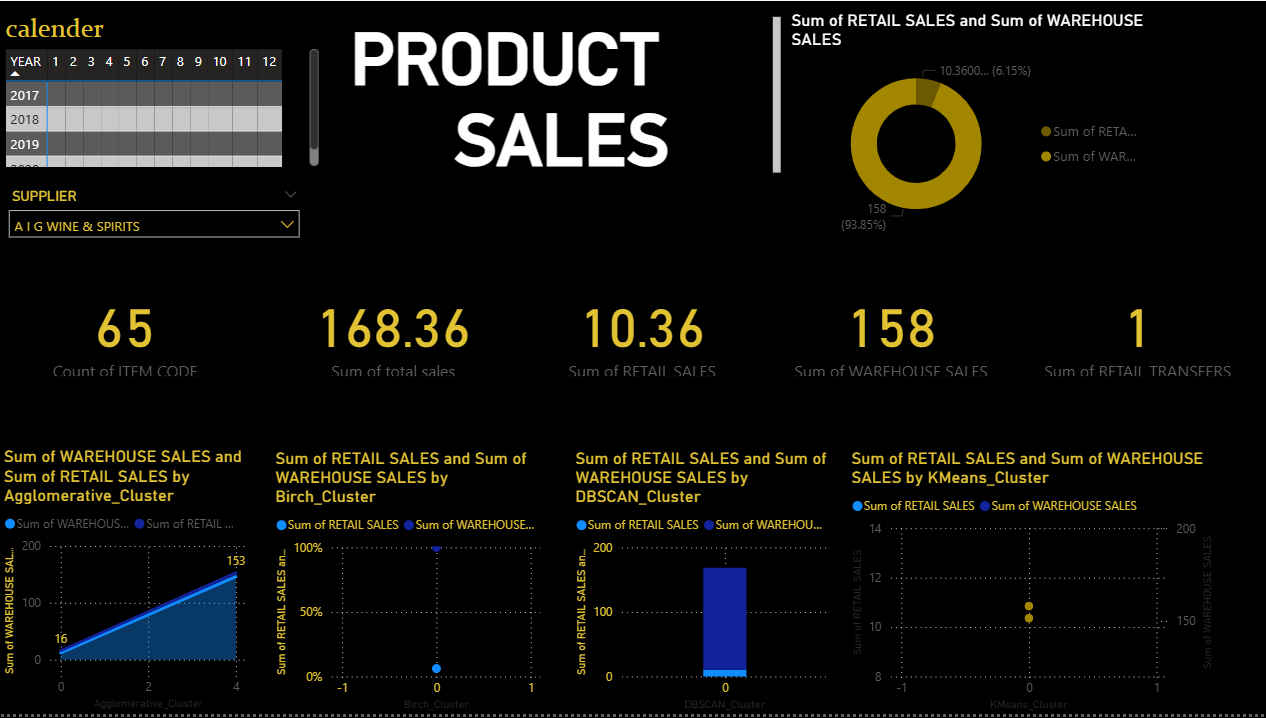

This screenshot's page, from the dashboard's own definition file:
{"tool":"powerbi","page":{"name":"Page 1","canvas":[1280,720],"ordinal":0},"visuals":[{"type":"stackedAreaChart","fields":{"Category":["clustered_products.Agglomerative_Cluster"],"Y":["Sum(clustered_products.WAREHOUSE SALES)","Sum(clustered_products.RETAIL SALES)"]},"box":[0,450,253.8,270],"z":0},{"type":"donutChart","fields":{"Y":["Sum(clustered_products.RETAIL SALES)","Sum(clustered_products.WAREHOUSE SALES)"]},"box":[794.5,9.6,369.1,230.5],"z":1000},{"type":"hundredPercentStackedAreaChart","fields":{"Category":["clustered_products.Birch_Cluster"],"Y":["Sum(clustered_products.RETAIL SALES)","Sum(clustered_products.WAREHOUSE SALES)"]},"box":[274.7,450.7,277.3,269.3],"z":2000},{"type":"lineStackedColumnComboChart","fields":{"Category":["clustered_products.DBSCAN_Cluster"],"Y":["Sum(clustered_products.RETAIL SALES)","Sum(clustered_products.WAREHOUSE SALES)"]},"box":[577.3,450.7,264,269.3],"z":3000},{"type":"card","fields":{"Values":["CountNonNull(clustered_products.ITEM CODE)"]},"box":[0,285.4,253.9,98.8],"z":4000},{"type":"card","fields":{"Values":["Sum(clustered_products.total sales)"]},"box":[274.4,285.4,247,98.8],"z":5000},{"type":"lineChart","fields":{"Category":["clustered_products.KMeans_Cluster"],"Y":["Sum(clustered_products.RETAIL SALES)"],"Y2":["Sum(clustered_products.WAREHOUSE SALES)"]},"box":[856,450.7,374.7,269.3],"z":6000},{"type":"card","fields":{"Values":["Sum(clustered_products.RETAIL SALES)"]},"box":[505,285.4,289.5,98.8],"z":7000},{"type":"pivotTable","title":"calender","fields":{"Rows":["clustered_products.YEAR"],"Columns":["clustered_products.MONTH"]},"box":[1.2,10,326.2,161.2],"z":8000},{"type":"card","fields":{"Values":["Sum(clustered_products.WAREHOUSE SALES)"]},"box":[784.9,285.4,231.9,98.8],"z":9000},{"type":"textbox","box":[349.3,10.7,444,170.7],"z":10000},{"type":"slicer","fields":{"Values":["clustered_products.SUPPLIER"]},"box":[0,182.7,313.3,117.3],"z":11000},{"type":"card","fields":{"Values":["Sum(clustered_products.RETAIL TRANSFERS)"]},"box":[1016.8,285.4,263.5,98.8],"z":12000}]}

Visuals, with their boxes in screenshot pixels (x1, y1, x2, y2), scaled from the page's 1280x720 canvas onto the 1266x718 screenshot:
stackedAreaChart - clustered_products.Agglomerative_Cluster x Sum(clustered_products.WAREHOUSE SALES): bbox(0, 449, 251, 717)
donutChart - Sum(clustered_products.RETAIL SALES) x Sum(clustered_products.WAREHOUSE SALES): bbox(786, 10, 1151, 239)
hundredPercentStackedAreaChart - clustered_products.Birch_Cluster x Sum(clustered_products.RETAIL SALES): bbox(272, 449, 546, 717)
lineStackedColumnComboChart - clustered_products.DBSCAN_Cluster x Sum(clustered_products.RETAIL SALES): bbox(571, 449, 832, 717)
card - CountNonNull(clustered_products.ITEM CODE): bbox(0, 285, 251, 383)
card - Sum(clustered_products.total sales): bbox(271, 285, 516, 383)
lineChart - clustered_products.KMeans_Cluster x Sum(clustered_products.RETAIL SALES): bbox(847, 449, 1217, 717)
card - Sum(clustered_products.RETAIL SALES): bbox(499, 285, 786, 383)
"calender" pivotTable: bbox(1, 10, 324, 171)
card - Sum(clustered_products.WAREHOUSE SALES): bbox(776, 285, 1006, 383)
textbox: bbox(345, 11, 785, 181)
slicer - clustered_products.SUPPLIER: bbox(0, 182, 310, 299)
card - Sum(clustered_products.RETAIL TRANSFERS): bbox(1006, 285, 1265, 383)
